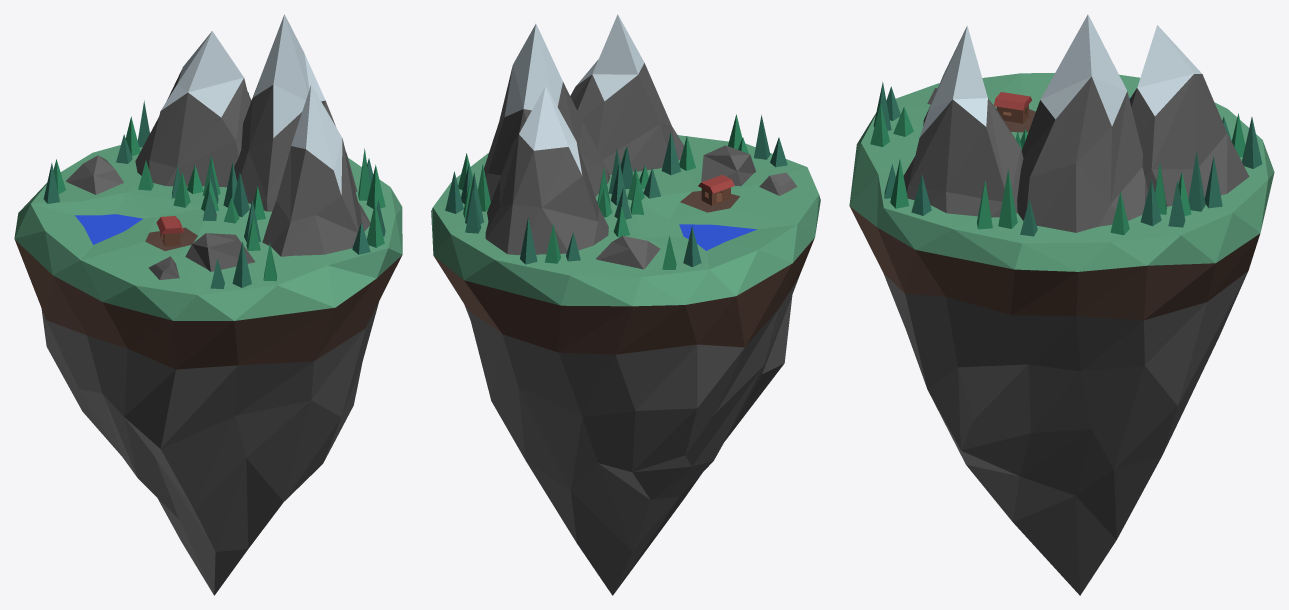
3 views of the same model, side by side, from view 1: azimuth 30°, elevation 25°; view 2: azimuth 150°, elevation 25°; view 3: azimuth 270°, elevation 25° (orthographic). The views are drawn at different scales.
Visible parts, largest first — view 1: Cube; view 2: Cube; view 3: Cube.
Boxes of the visible parts, x1,y1,x2,y2 form: Cube: (14,14,402,595); Cube: (431,14,820,595); Cube: (849,14,1274,595).
Size of the model in its own units: 3.38 by 5.47 by 3.39.
